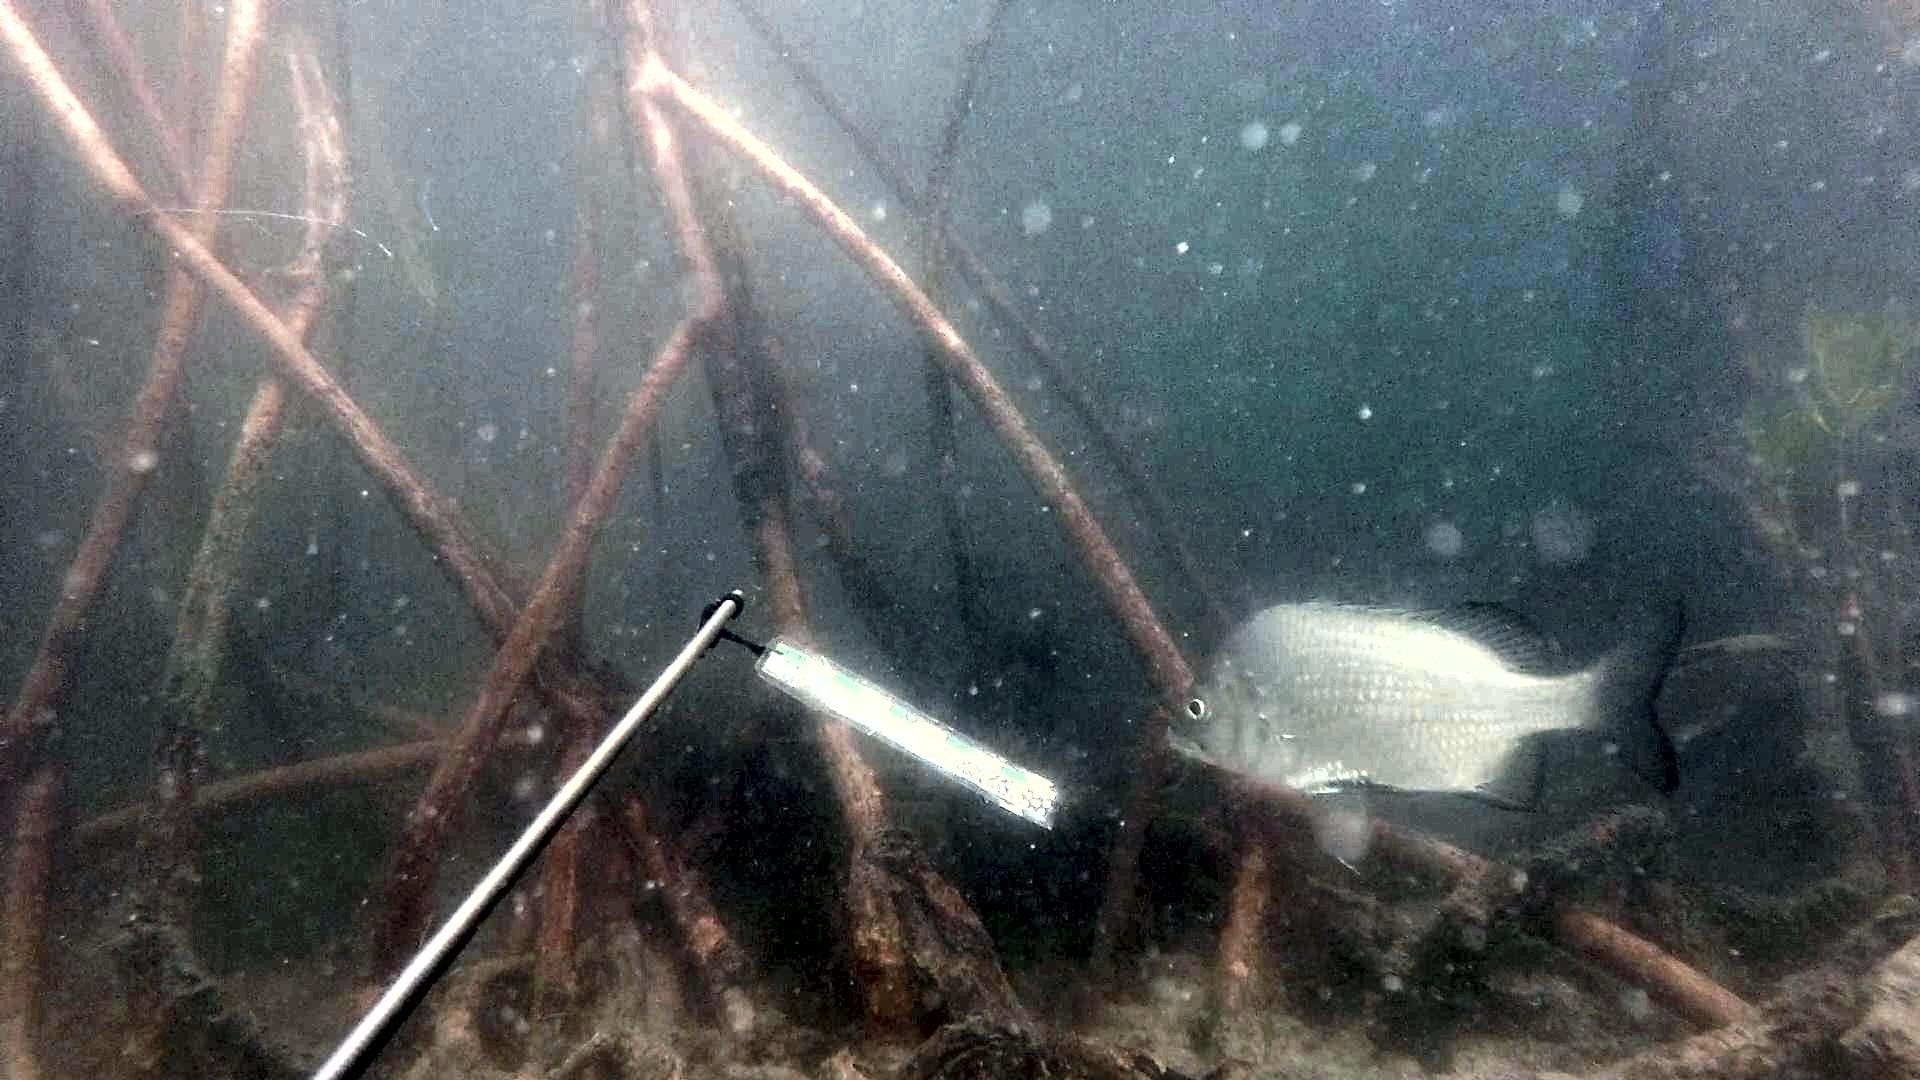acanthopagrus palmaris: (1158, 583, 1698, 886)
